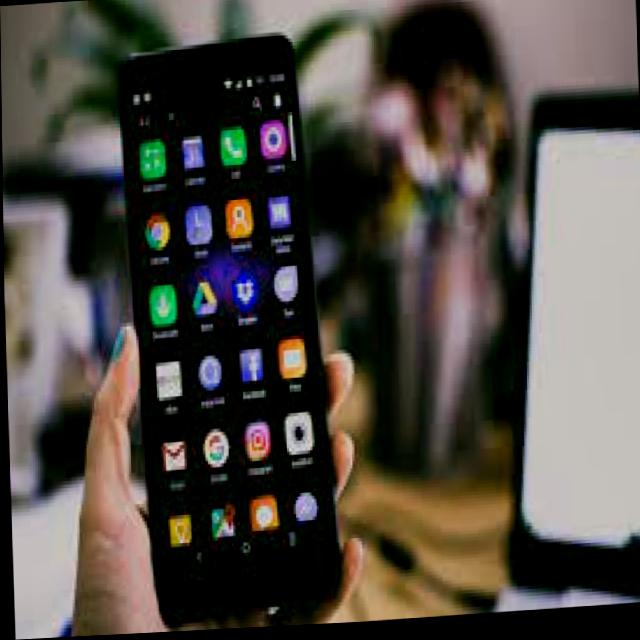Smartphone: (111, 28, 357, 627)
